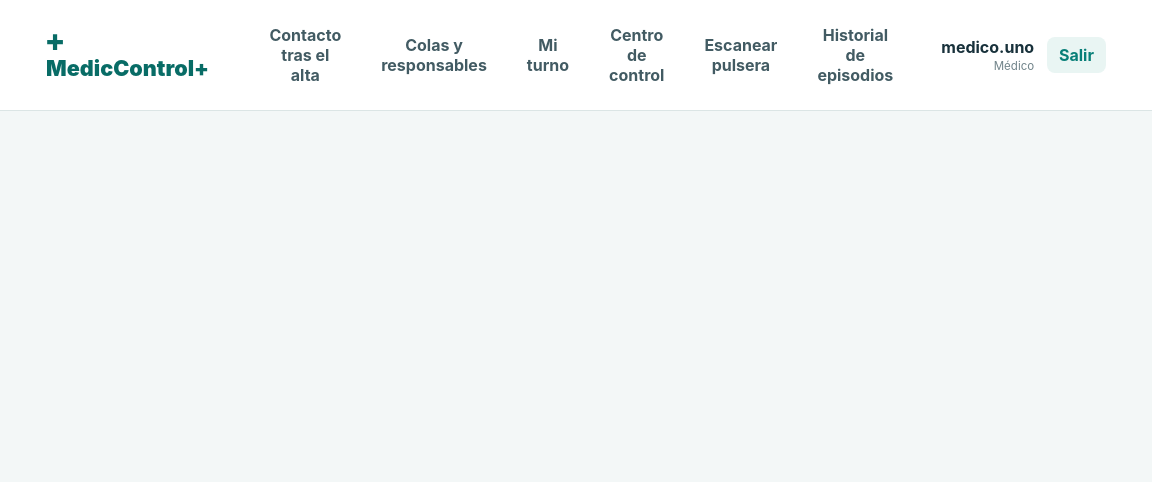
Test: restores coordination=false and guards select-only edits on navigation
Step 1. Click the button "Mi turno" → (548, 55), box [511,13,585,97]
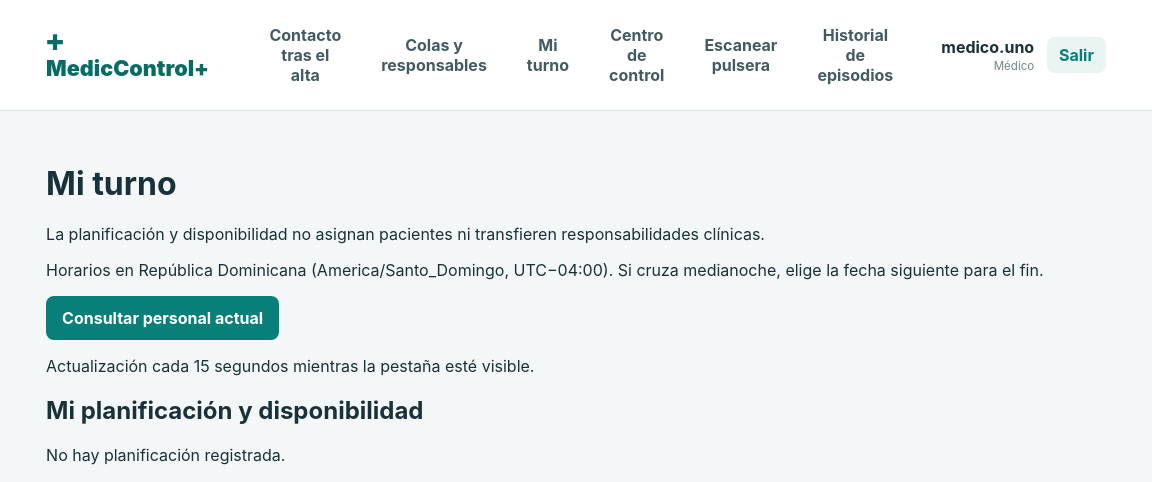
Check: the text "No hay planificación registrada." is shown, box [46,445,285,465]
